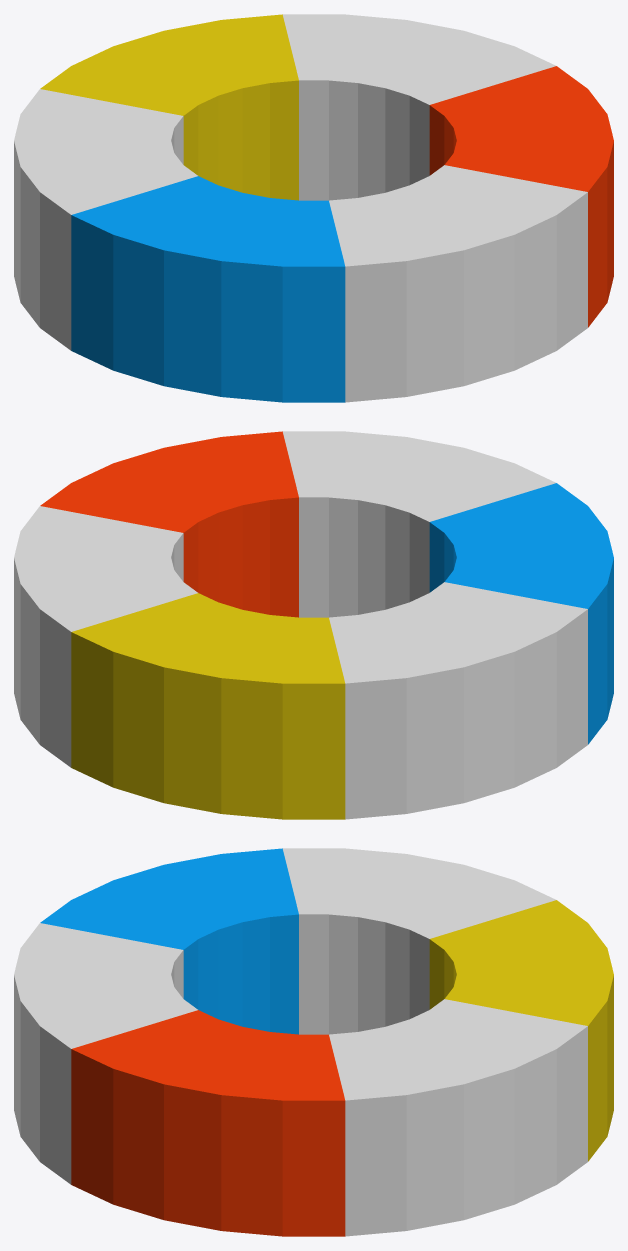
The model's file is menuring2.fbx.
The picture shows the model from 3 angles, top to bottom: view 1: azimuth 30°, elevation 25°; view 2: azimuth 150°, elevation 25°; view 3: azimuth 270°, elevation 25°; orthographic projection.
Visible parts, largest first — view 1: Cylinder, Cylinder.003, Cylinder.002, Cylinder.001; view 2: Cylinder, Cylinder.002, Cylinder.001, Cylinder.003; view 3: Cylinder, Cylinder.001, Cylinder.003, Cylinder.002.
Boxes of the visible parts, x1,y1,x2,y2 form: Cylinder: [14, 14, 587, 402]; Cylinder.003: [71, 176, 345, 402]; Cylinder.002: [40, 14, 298, 200]; Cylinder.001: [429, 66, 613, 327]; Cylinder: [14, 431, 587, 819]; Cylinder.002: [71, 593, 345, 819]; Cylinder.001: [40, 431, 298, 617]; Cylinder.003: [429, 483, 613, 744]; Cylinder: [14, 848, 587, 1236]; Cylinder.001: [71, 1010, 345, 1236]; Cylinder.003: [40, 848, 298, 1034]; Cylinder.002: [429, 900, 613, 1161].
Size of the model in its own units: 199 by 50.07 by 200.
